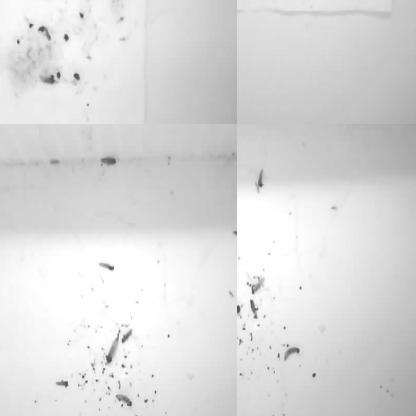PtecticusTenebrifer: (107, 333, 119, 362), (283, 345, 301, 362), (250, 278, 266, 295), (39, 72, 56, 86), (101, 156, 118, 168), (116, 394, 133, 406), (237, 304, 246, 323), (122, 329, 134, 343), (257, 168, 265, 189), (99, 262, 114, 273), (43, 26, 52, 43), (250, 300, 258, 318), (142, 0, 155, 11), (316, 124, 333, 131), (237, 172, 246, 185), (0, 37, 6, 53), (56, 380, 68, 388), (237, 396, 242, 415), (115, 0, 128, 7), (95, 0, 103, 11), (328, 124, 344, 129), (237, 292, 244, 303), (0, 84, 6, 96), (237, 124, 244, 134), (117, 0, 124, 9), (0, 198, 7, 207), (407, 124, 416, 131), (0, 0, 5, 12), (0, 30, 3, 49), (101, 0, 108, 8), (132, 0, 138, 9), (0, 311, 6, 320), (113, 0, 119, 8), (233, 228, 237, 240), (389, 124, 401, 128), (128, 0, 132, 9)
